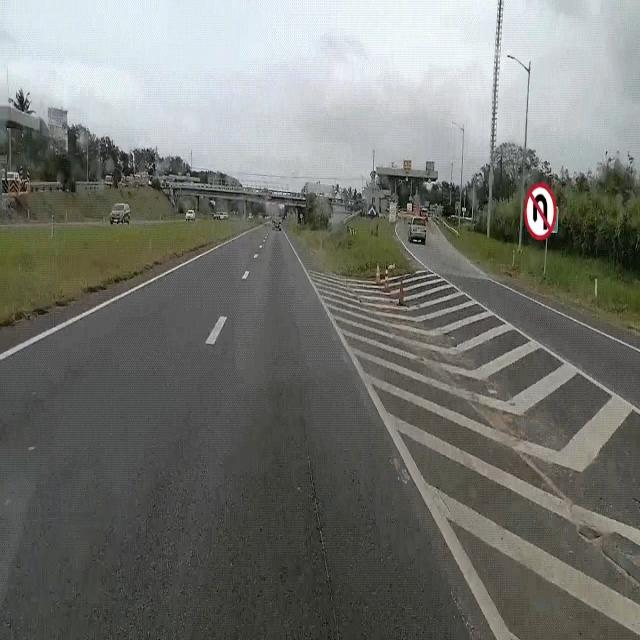Demi-Tour-Interdit: (522, 177, 560, 242)
